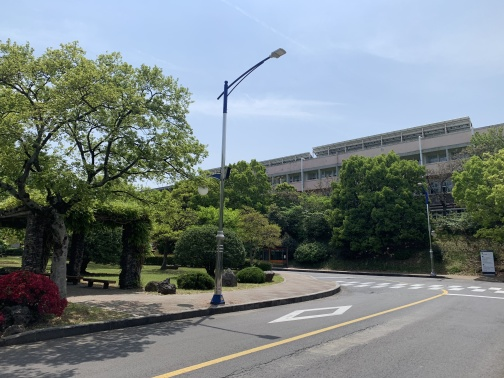College Of Education: (199, 110, 504, 220)
